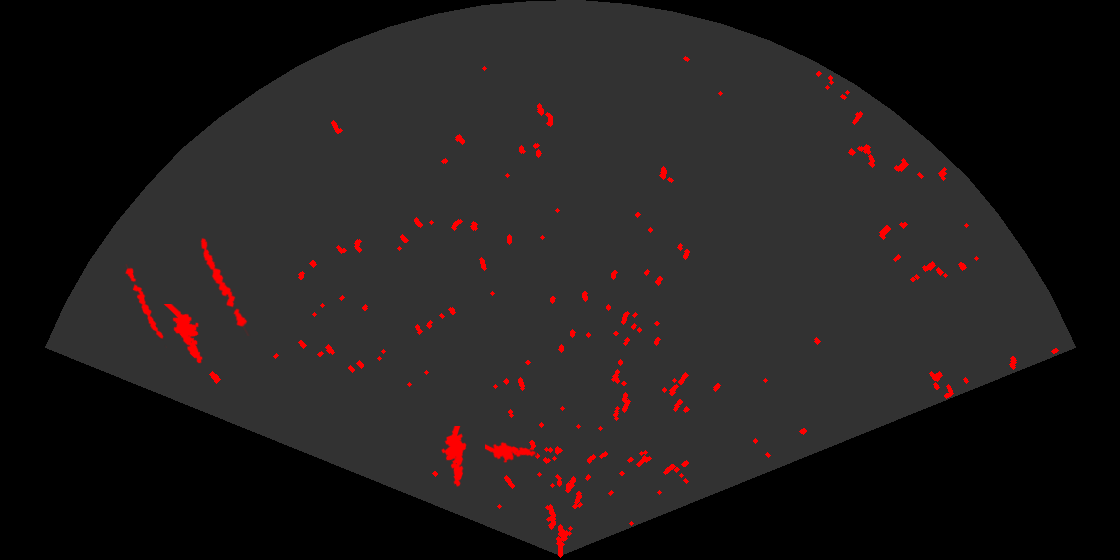chain: (199, 236, 251, 336), (124, 264, 167, 348)
frogman: (162, 304, 204, 365), (440, 426, 468, 489), (485, 440, 537, 464)
